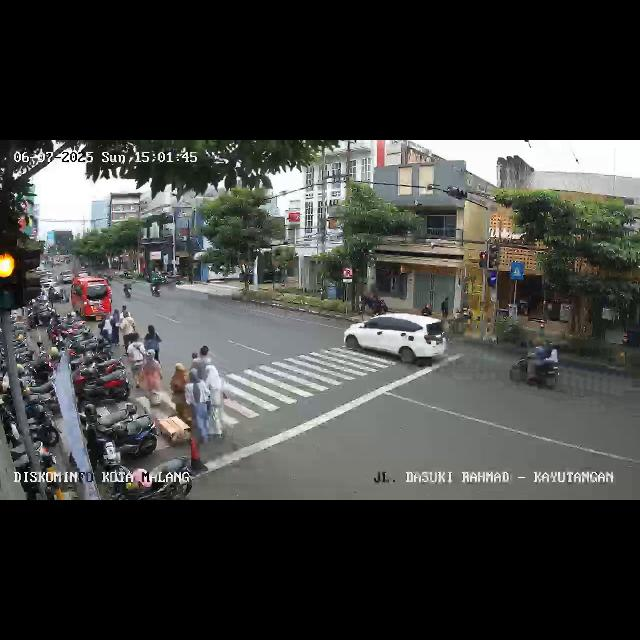car: (344, 311, 448, 369), (70, 275, 111, 319)
motorcycle: (510, 340, 562, 392), (122, 276, 134, 298), (150, 277, 162, 297)
person: (184, 369, 210, 447), (203, 364, 225, 438), (142, 348, 164, 408), (170, 361, 188, 429), (126, 332, 144, 388), (120, 308, 136, 360), (191, 345, 215, 379), (143, 324, 161, 366), (110, 308, 120, 347), (104, 320, 115, 354)
